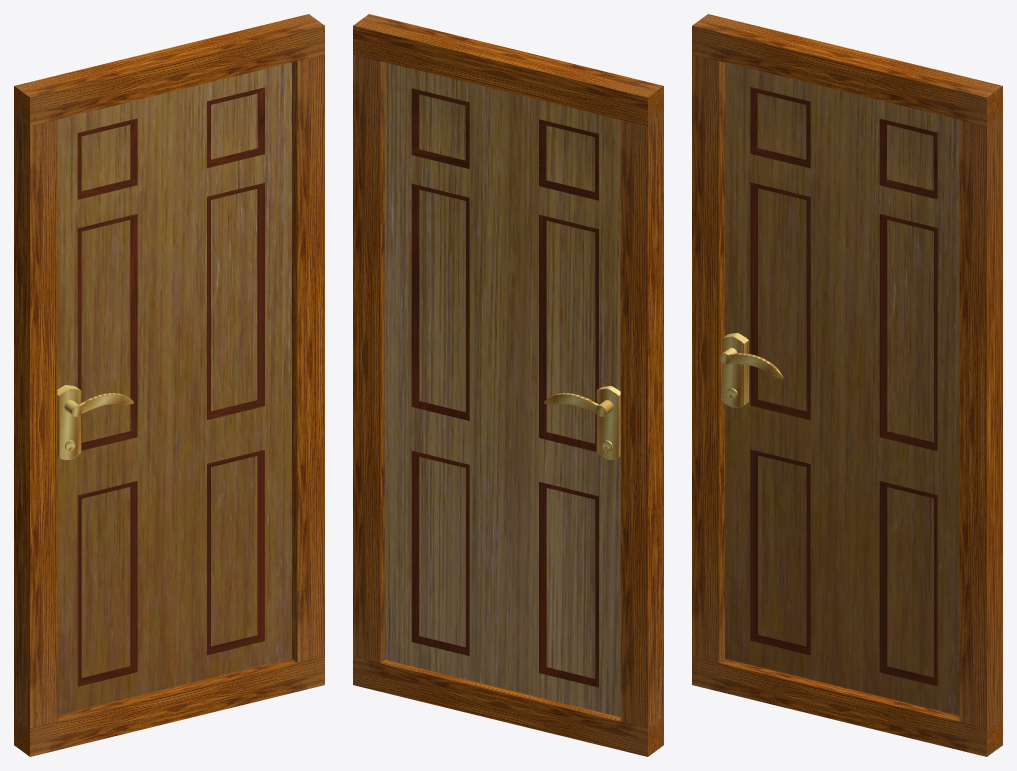
Rendered from Door1.fbx.
The picture shows the model from 3 angles, left to right: view 1: azimuth 30°, elevation 25°; view 2: azimuth 150°, elevation 25°; view 3: azimuth 330°, elevation 25°; orthographic projection.
Visible parts, largest first — view 1: pCube5, polySurface1, Door; view 2: pCube5, polySurface1, Door; view 3: pCube5, polySurface1, Door.
Part boxes in pixels (box(x1,y1,x2,y2)): pCube5: box(57, 62, 291, 715); polySurface1: box(14, 14, 324, 756); Door: box(57, 385, 133, 459); pCube5: box(384, 62, 620, 717); polySurface1: box(353, 14, 663, 756); Door: box(544, 386, 620, 459); pCube5: box(725, 62, 959, 715); polySurface1: box(692, 14, 1002, 756); Door: box(719, 333, 783, 407).
Bounding box in the file's own units: 20.54 × 43.89 × 3.66.
Materials: 7 (5 with a texture image).
